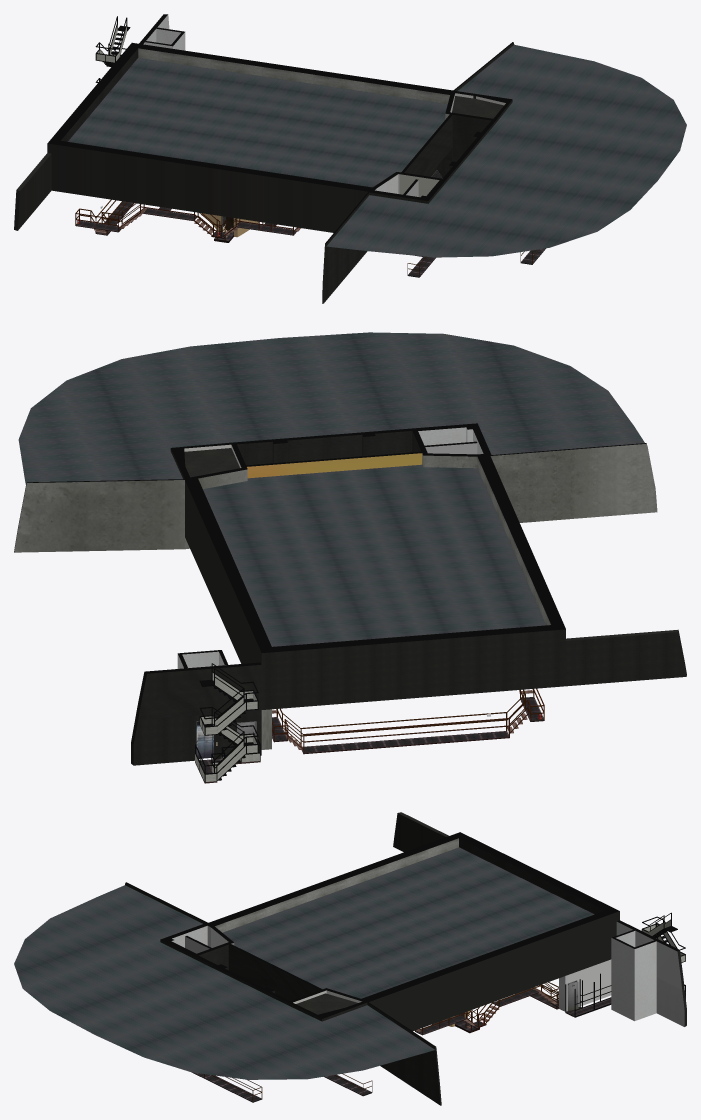
The model's file is 4_F3_창녕문화예술회관.fbx.
The picture shows the model from 3 angles, top to bottom: view 1: azimuth 30°, elevation 25°; view 2: azimuth 150°, elevation 25°; view 3: azimuth 270°, elevation 25°; orthographic projection. The views are drawn at different scales.
Visible parts, largest first — view 1: 천정_철-M_B0010000000CUFEBOF03F03_ISCL_0000002, 천정_콘-M_B0010000000CUFEBOF03F03_ISCL_0000005, 벽_콘-M_B0010000000CUFEBOF03F03_ISWL_0000009, 벽_콘-M_B0010000000CUFEBOF03F03_ISWL_0000002, 벽_콘-M_B0010000000CUFEBOF03F03_ISWL_0000008, 펜스_철-M_B0010000000CUFEBOF03F03_MVFC_0500001, 벽_콘-M_B0010000000CUFEBOF03F03_ISWL_0000004, 벽_콘-M_B0010000000CUFEBOF03F03_ISWL_0000007, 천정_콘-M_B0010000000CUFEBOF03F03_ISCL_0000003, 벽_콘-M_B0010000000CUFEBOF03F03_ISWL_0000005, 계단_철-M_B0010000000CUFEBOF03F03_MVFC_0100001, 바닥_철-M_B0010000000CUFEBOF03F03_ISFL_0000003; view 2: 천정_철-M_B0010000000CUFEBOF03F03_ISCL_0000002, 천정_콘-M_B0010000000CUFEBOF03F03_ISCL_0000005, 벽_콘-M_B0010000000CUFEBOF03F03_ISWL_0000009, 벽_콘-M_B0010000000CUFEBOF03F03_ISWL_0000007, 벽_콘-M_B0010000000CUFEBOF03F03_ISWL_0000008, 벽_콘-M_B0010000000CUFEBOF03F03_ISWL_0000003, 벽_콘-M_B0010000000CUFEBOF03F03_ISWL_0000002, 펜스_철-M_B0010000000CUFEBOF03F03_MVFC_0500001, 벽_콘-M_B0010000000CUFEBOF03F03_ISWL_0000004, 바닥_철-M_B0010000000CUFEBOF03F03_ISFL_0000012, 천정_콘-M_B0010000000CUFEBOF03F03_ISCL_0000003, 계단_철-M_B0010000000CUFEBOF03F03_MVFC_0100001 (+2 smaller); view 3: 천정_철-M_B0010000000CUFEBOF03F03_ISCL_0000002, 천정_콘-M_B0010000000CUFEBOF03F03_ISCL_0000005, 벽_콘-M_B0010000000CUFEBOF03F03_ISWL_0000009, 벽_콘-M_B0010000000CUFEBOF03F03_ISWL_0000005, 벽_콘-M_B0010000000CUFEBOF03F03_ISWL_0000002, 벽_콘-M_B0010000000CUFEBOF03F03_ISWL_0000007, 벽_콘-M_B0010000000CUFEBOF03F03_ISWL_0000003, 펜스_철-M_B0010000000CUFEBOF03F03_MVFC_0500001, 벽_콘-M_B0010000000CUFEBOF03F03_ISWL_0000008, 벽_콘-M_B0010000000CUFEBOF03F03_ISWL_0000004, 바닥_철-M_B0010000000CUFEBOF03F03_ISFL_0000003, 천정_콘-M_B0010000000CUFEBOF03F03_ISCL_0000003.
Part boxes in pixels (<box>): 천정_철-M_B0010000000CUFEBOF03F03_ISCL_0000002: <box>326,45,686,257</box>; 천정_콘-M_B0010000000CUFEBOF03F03_ISCL_0000005: <box>68,58,447,187</box>; 벽_콘-M_B0010000000CUFEBOF03F03_ISWL_0000009: <box>47,42,452,232</box>; 벽_콘-M_B0010000000CUFEBOF03F03_ISWL_0000002: <box>399,112,496,197</box>; 벽_콘-M_B0010000000CUFEBOF03F03_ISWL_0000008: <box>322,172,445,303</box>; 펜스_철-M_B0010000000CUFEBOF03F03_MVFC_0500001: <box>75,16,539,276</box>; 벽_콘-M_B0010000000CUFEBOF03F03_ISWL_0000004: <box>14,153,51,230</box>; 벽_콘-M_B0010000000CUFEBOF03F03_ISWL_0000007: <box>445,42,514,121</box>; 천정_콘-M_B0010000000CUFEBOF03F03_ISCL_0000003: <box>452,96,503,118</box>; 벽_콘-M_B0010000000CUFEBOF03F03_ISWL_0000005: <box>145,27,185,50</box>; 계단_철-M_B0010000000CUFEBOF03F03_MVFC_0100001: <box>94,25,300,237</box>; 바닥_철-M_B0010000000CUFEBOF03F03_ISFL_0000003: <box>407,248,545,277</box>; 천정_철-M_B0010000000CUFEBOF03F03_ISCL_0000002: <box>18,332,644,484</box>; 천정_콘-M_B0010000000CUFEBOF03F03_ISCL_0000005: <box>203,464,545,646</box>; 벽_콘-M_B0010000000CUFEBOF03F03_ISWL_0000009: <box>185,456,565,749</box>; 벽_콘-M_B0010000000CUFEBOF03F03_ISWL_0000007: <box>14,442,247,552</box>; 벽_콘-M_B0010000000CUFEBOF03F03_ISWL_0000008: <box>417,423,657,522</box>; 벽_콘-M_B0010000000CUFEBOF03F03_ISWL_0000003: <box>131,662,261,765</box>; 벽_콘-M_B0010000000CUFEBOF03F03_ISWL_0000002: <box>231,428,427,478</box>; 펜스_철-M_B0010000000CUFEBOF03F03_MVFC_0500001: <box>195,663,544,782</box>; 벽_콘-M_B0010000000CUFEBOF03F03_ISWL_0000004: <box>566,629,686,686</box>; 바닥_철-M_B0010000000CUFEBOF03F03_ISFL_0000012: <box>301,731,509,754</box>; 천정_콘-M_B0010000000CUFEBOF03F03_ISCL_0000003: <box>184,448,239,477</box>; 계단_철-M_B0010000000CUFEBOF03F03_MVFC_0100001: <box>199,679,533,780</box>; 천정_철-M_B0010000000CUFEBOF03F03_ISCL_0000002: <box>14,885,434,1079</box>; 천정_콘-M_B0010000000CUFEBOF03F03_ISCL_0000005: <box>222,847,594,998</box>; 벽_콘-M_B0010000000CUFEBOF03F03_ISWL_0000009: <box>208,832,619,1030</box>; 벽_콘-M_B0010000000CUFEBOF03F03_ISWL_0000005: <box>611,930,656,1021</box>; 벽_콘-M_B0010000000CUFEBOF03F03_ISWL_0000002: <box>192,942,325,1005</box>; 벽_콘-M_B0010000000CUFEBOF03F03_ISWL_0000007: <box>290,988,441,1105</box>; 벽_콘-M_B0010000000CUFEBOF03F03_ISWL_0000003: <box>616,920,686,1026</box>; 펜스_철-M_B0010000000CUFEBOF03F03_MVFC_0500001: <box>196,912,685,1101</box>; 벽_콘-M_B0010000000CUFEBOF03F03_ISWL_0000008: <box>125,882,234,957</box>; 벽_콘-M_B0010000000CUFEBOF03F03_ISWL_0000004: <box>393,812,448,852</box>; 바닥_철-M_B0010000000CUFEBOF03F03_ISFL_0000003: <box>192,1072,371,1102</box>; 천정_콘-M_B0010000000CUFEBOF03F03_ISCL_0000003: <box>296,993,357,1014</box>.
Bounding box in the file's own units: 45.25 × 7.8 × 46.55.
25 materials, 23 textured.
